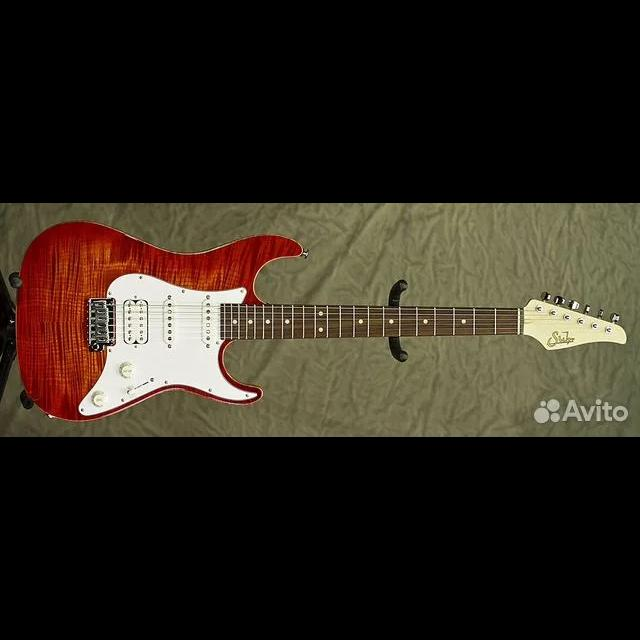Electric-Guitar: (16, 222, 626, 422)
